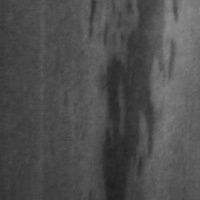inclusion: (97, 1, 181, 200), (84, 0, 101, 48)
